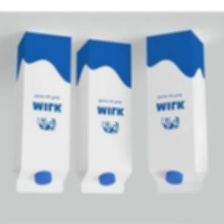carton: (143, 23, 209, 195), (71, 32, 140, 194), (9, 28, 73, 197)
